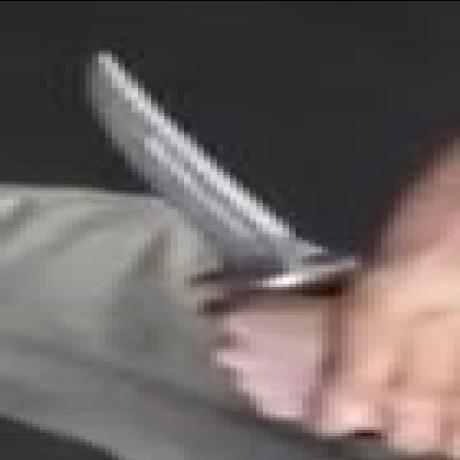1: (210, 128, 460, 460)
weapon: (73, 50, 350, 294)
